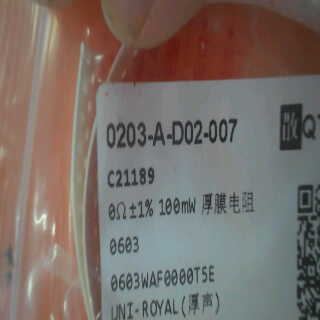0R: (108, 195, 156, 254)
